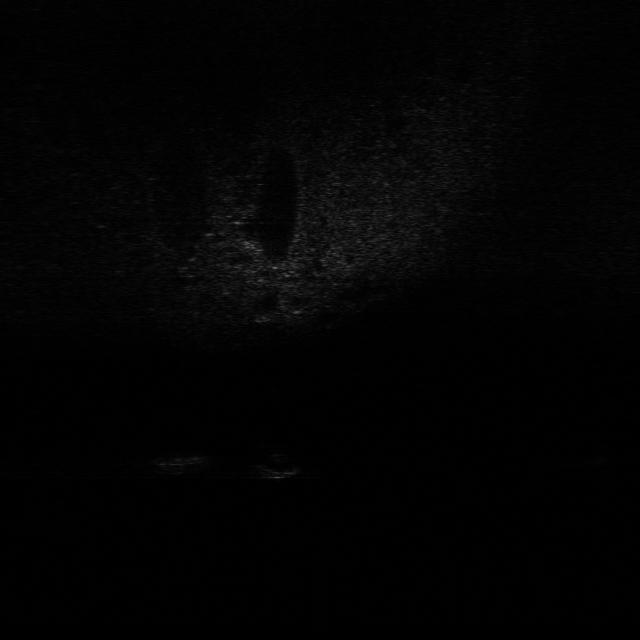ball: (244, 446, 312, 485)
circle cage: (148, 448, 221, 478)
